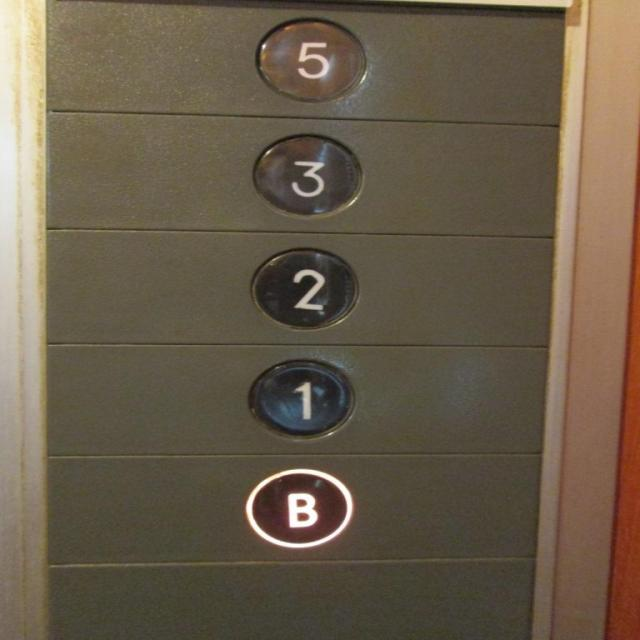1: (244, 356, 358, 440)
2: (248, 244, 360, 332)
3: (251, 130, 367, 220)
5: (254, 15, 369, 104)
B: (240, 466, 358, 548)
